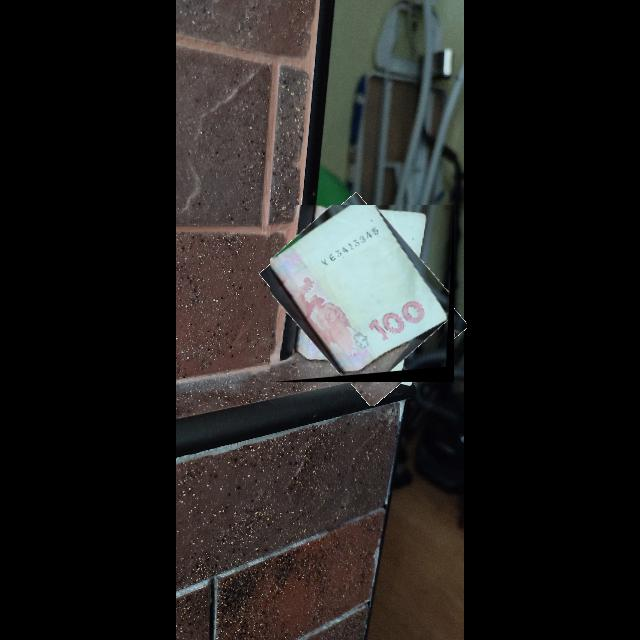100uah: (270, 205, 450, 378)
